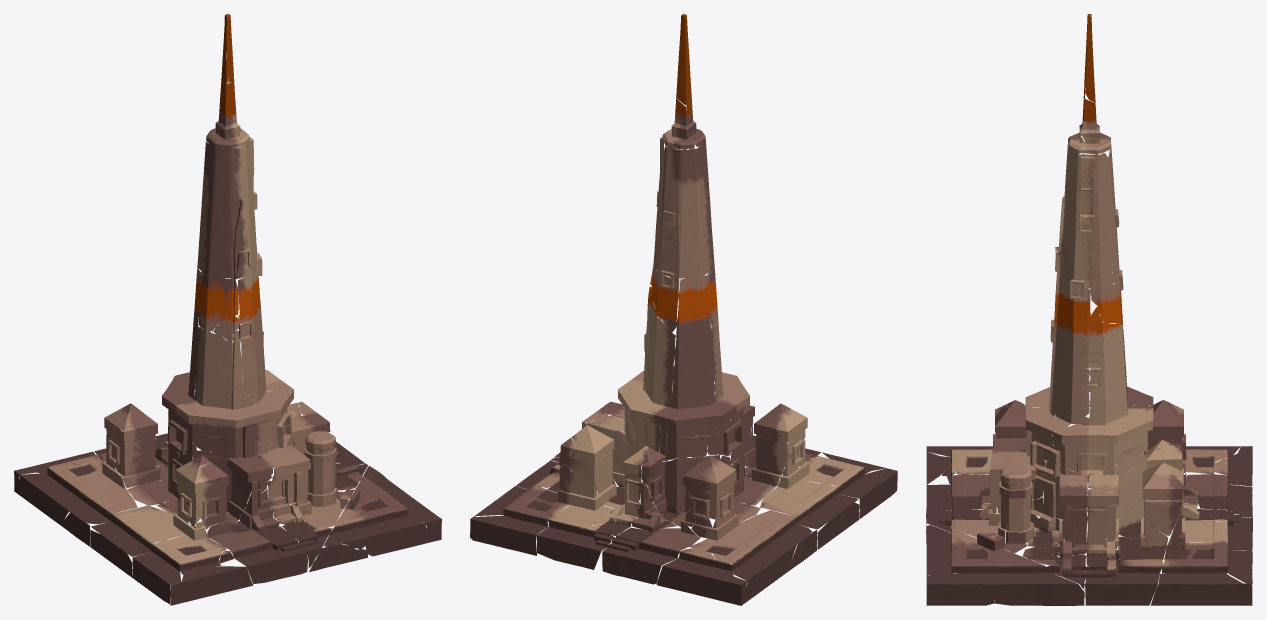
The model's file is decor-spire.glb.
3 renders of one model, left to right at view 1: azimuth 30°, elevation 25°; view 2: azimuth 150°, elevation 25°; view 3: azimuth 270°, elevation 25°, orthographic. The views are drawn at different scales.
Visible parts, largest first — view 1: world; view 2: world; view 3: world.
Boxes of the visible parts, left/top/right/bottom form: world: left=14, top=14, right=441, bottom=605; world: left=470, top=14, right=897, bottom=605; world: left=926, top=14, right=1252, bottom=605.
Size of the model in its own units: 2.7 by 4.74 by 2.69.
